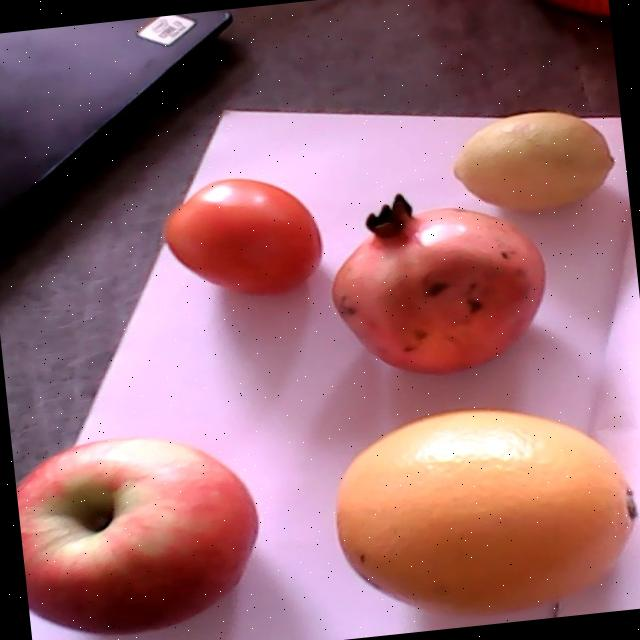apple: (16, 435, 257, 633)
lemon: (453, 109, 613, 209)
orange: (335, 406, 639, 616)
pomegranate: (331, 193, 545, 374)
tomato: (164, 177, 323, 293)
